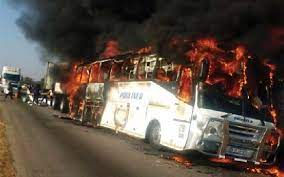smoke: (5, 1, 283, 62)
